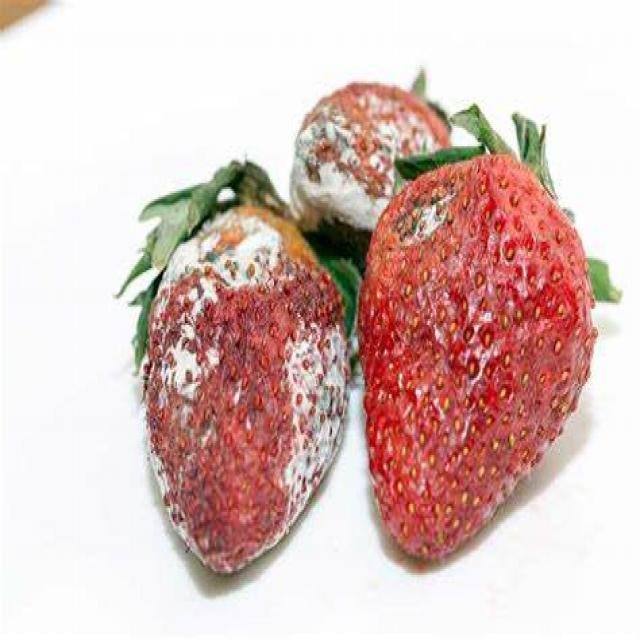Moho gris: (374, 150, 596, 570), (120, 198, 349, 557), (286, 62, 466, 242)
